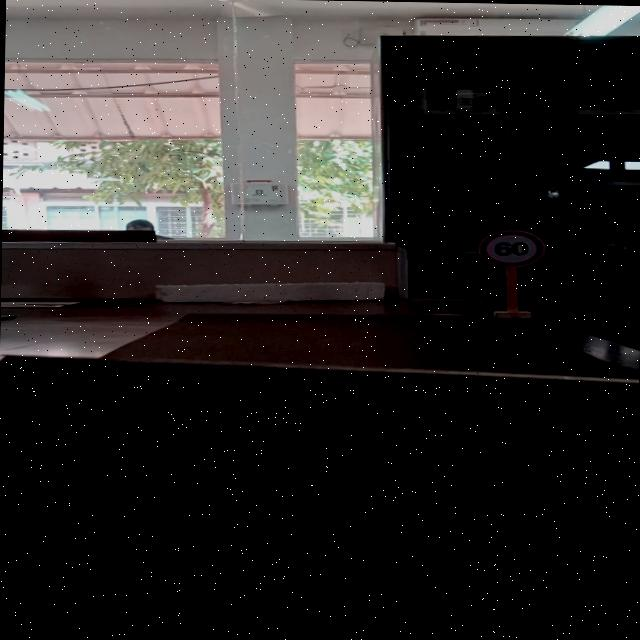Speed60: (478, 227, 548, 269)
